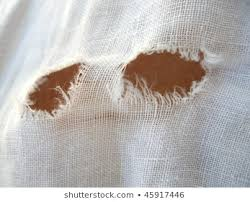Hole: (117, 31, 228, 124), (16, 44, 101, 130)
